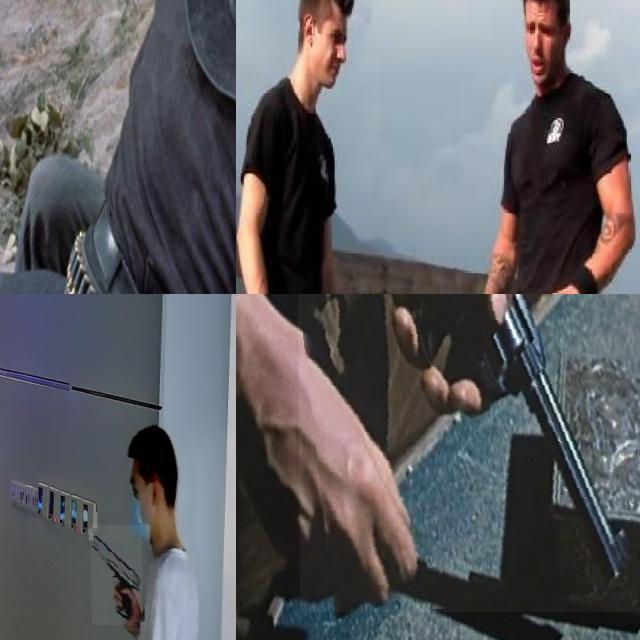gun-knife-thesis - v11 Yolov5 augmented: (296, 294, 640, 611), (90, 525, 142, 625)
